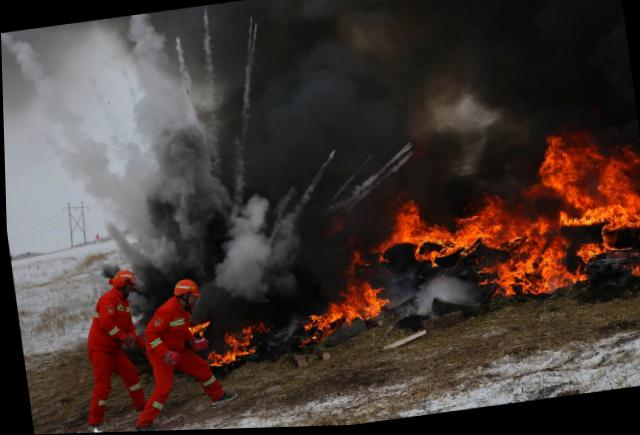fire: (290, 124, 639, 354), (181, 313, 267, 371)
